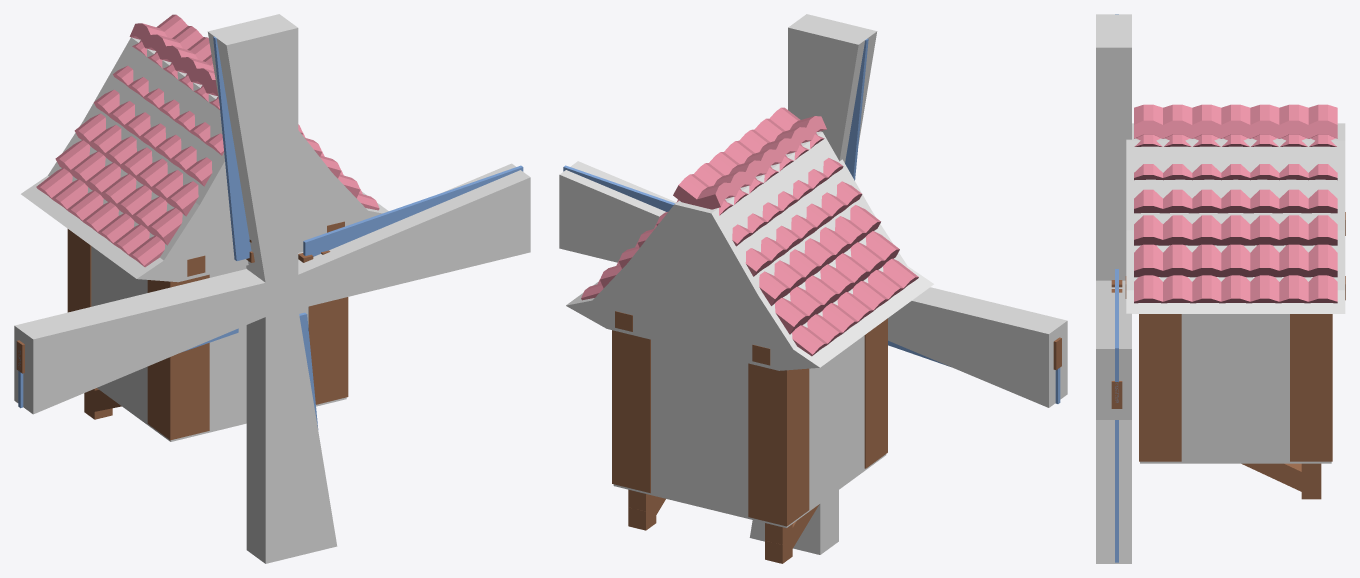
Rendered from windmill.fbx.
The picture shows the model from 3 angles, left to right: view 1: azimuth 30°, elevation 25°; view 2: azimuth 150°, elevation 25°; view 3: azimuth 270°, elevation 25°; orthographic projection. The views are drawn at different scales.
Parts seen in each view (by area): view 1: wind coll, COLLIDEER, roof tiles, Grapple, mill, block sepeeeereator; view 2: COLLIDEER, wind coll, roof tiles, Grapple, block sepeeeereator, mill; view 3: roof tiles, COLLIDEER, wind coll, Grapple, block sepeeeereator, mill.
Boxes of the visible parts, x1,y1,x2,y2 form: wind coll: (14,14,530,563); COLLIDEER: (21,37,388,441); roof tiles: (36,14,379,267); Grapple: (67,229,348,440); mill: (16,36,523,429); block sepeeeereator: (84,221,344,419); COLLIDEER: (566,131,933,527); wind coll: (559,14,1067,554); roof tiles: (581,107,918,356); Grapple: (612,318,887,526); block sepeeeereator: (615,311,819,563); mill: (563,38,1061,403); roof tiles: (1134,104,1337,303); COLLIDEER: (1126,123,1345,463); wind coll: (1096,14,1131,563); Grapple: (1139,314,1332,461); block sepeeeereator: (1125,212,1345,499); mill: (1111,14,1122,562).
Size of the model in its own units: 2579 by 2589 by 1176.
